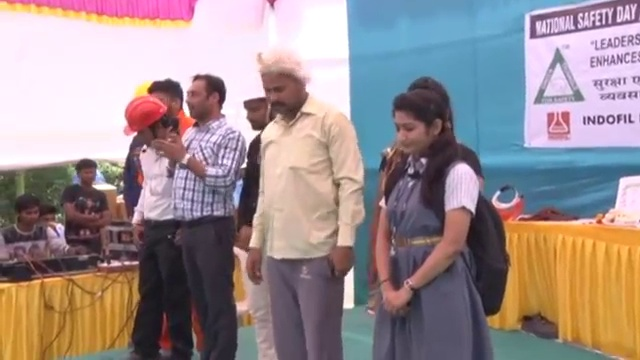helmet: (122, 96, 168, 135), (237, 77, 271, 108)
helmet_off: (383, 79, 459, 161), (257, 53, 311, 110), (182, 72, 227, 125), (149, 80, 184, 121), (12, 192, 41, 233), (75, 160, 98, 190)
helmet_on: (123, 92, 171, 152), (239, 77, 272, 134)
person: (370, 66, 510, 360), (249, 53, 364, 360), (168, 71, 248, 360), (118, 94, 190, 359), (236, 78, 281, 360), (0, 192, 74, 261), (62, 159, 110, 241)
